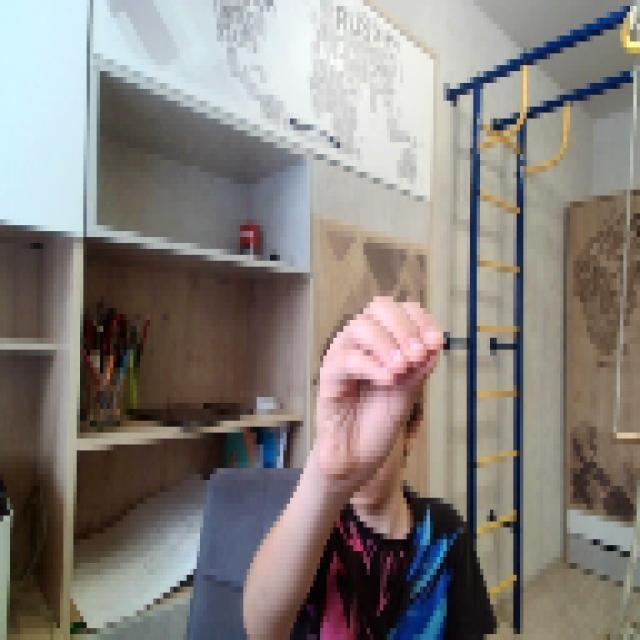left_click: (310, 285, 443, 474)
